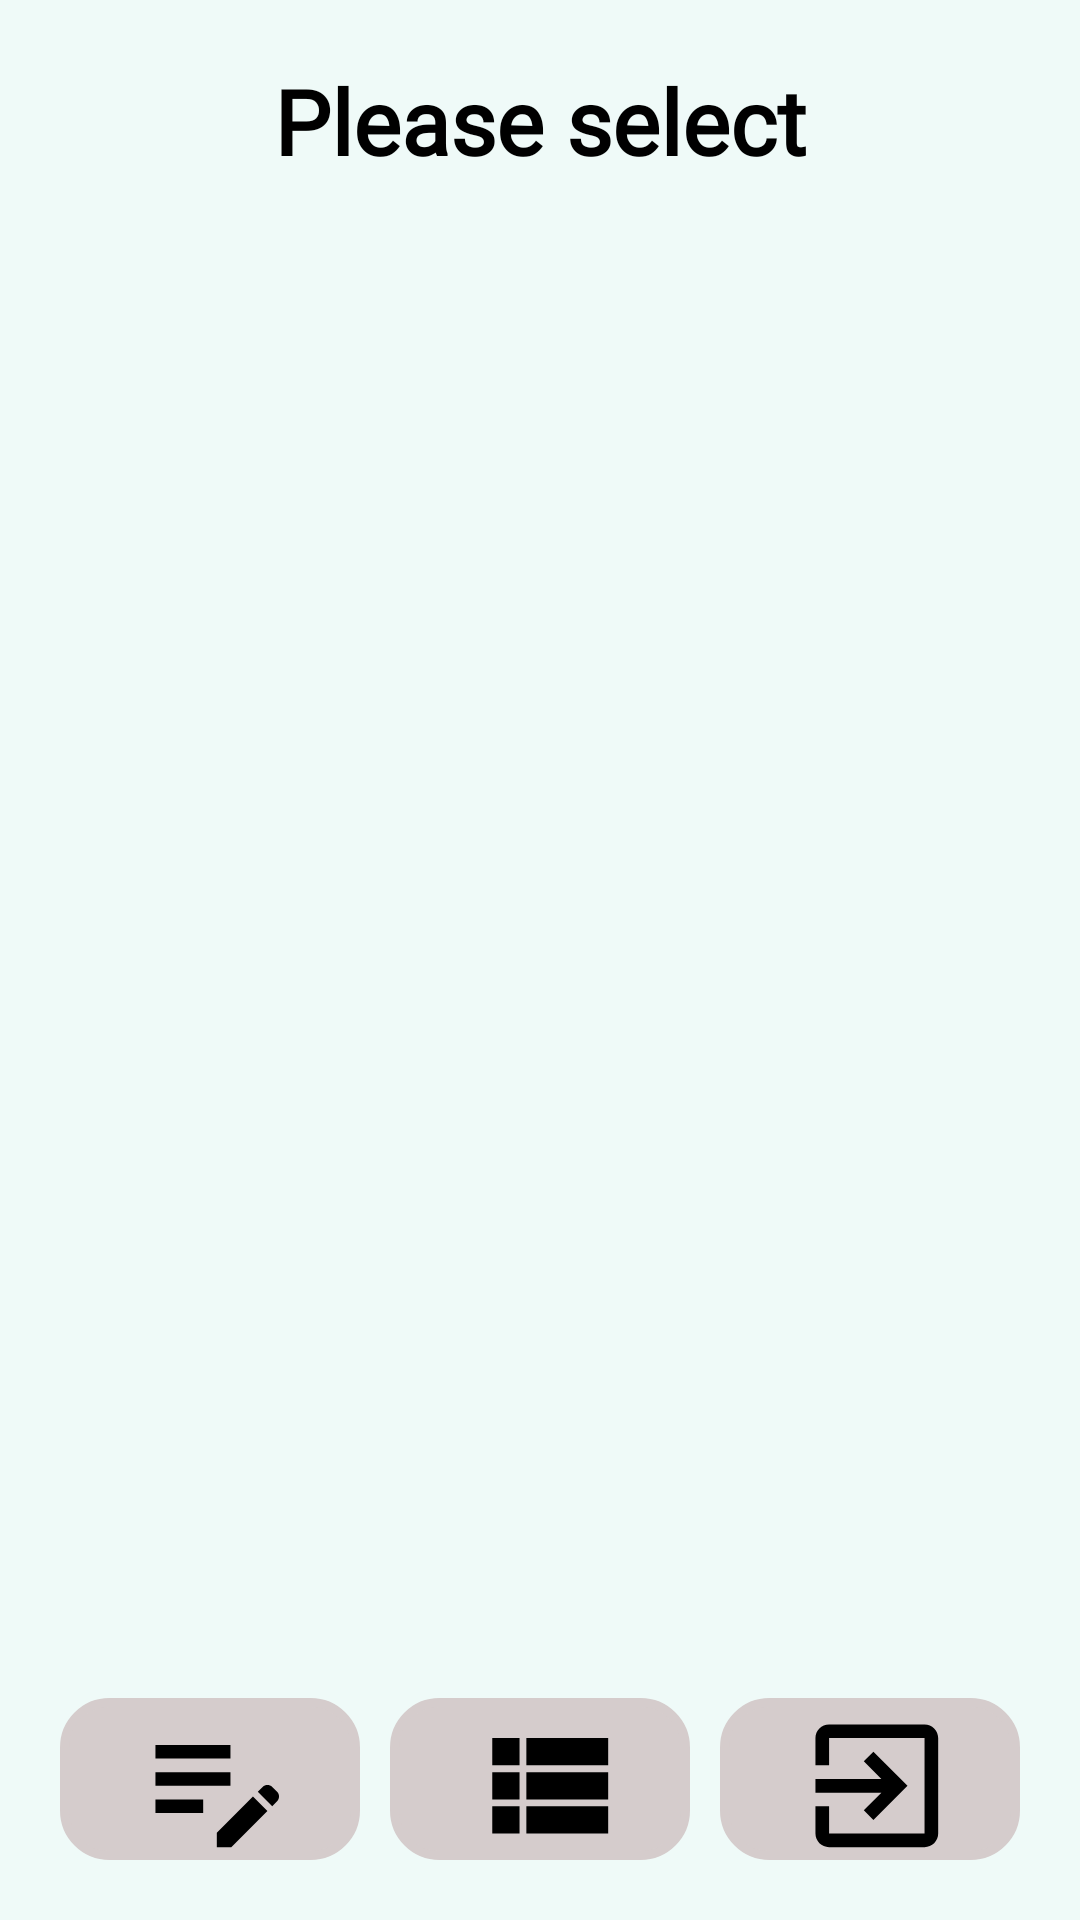

Icon click points for this 1080x1920 phone screenshot, format point (x, y):
edit note: point (210, 1779)
exit to app: point (870, 1779)
view list: point (540, 1779)
